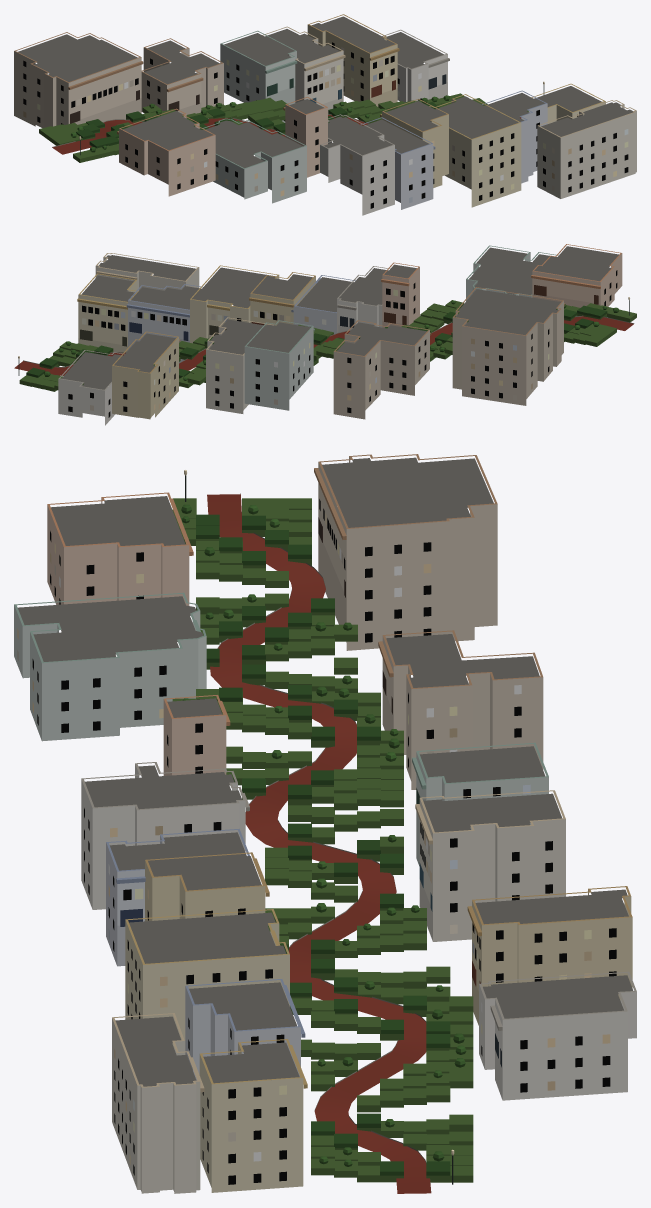
The model's file is lombard_lod1.glb.
The picture shows the model from 3 angles, top to bottom: view 1: azimuth 30°, elevation 25°; view 2: azimuth 150°, elevation 25°; view 3: azimuth 270°, elevation 25°; orthographic projection. The views are drawn at different scales.
Visible parts, largest first — view 1: L1_stucco, L1_roof, L1_win, L1_grass, L1_leaf, L1_brickred, L1_wood; view 2: L1_stucco, L1_roof, L1_grass, L1_win, L1_leaf, L1_brickred, L1_wood; view 3: L1_stucco, L1_roof, L1_grass, L1_brickred, L1_leaf, L1_win.
Boxes of the visible parts, x1,y1,x2,y2 form: L1_stucco: (14,14,636,215); L1_roof: (18,16,633,168); L1_win: (23,41,628,208); L1_grass: (39,93,528,162); L1_leaf: (71,95,449,152); L1_brickred: (52,115,521,154); L1_wood: (70,77,436,123); L1_stucco: (58,244,622,425); L1_roof: (61,246,618,389); L1_grass: (19,300,636,391); L1_win: (68,270,617,417); L1_leaf: (26,300,618,380); L1_brickred: (14,316,633,375); L1_wood: (80,285,546,340); L1_stucco: (14,454,636,1193); L1_roof: (18,457,633,1086); L1_grass: (172,498,473,1182); L1_brickred: (207,494,431,1193); L1_leaf: (181,504,466,1175); L1_win: (17,499,616,1184).
Size of the model in its own units: 145 by 44.67 by 81.13.
